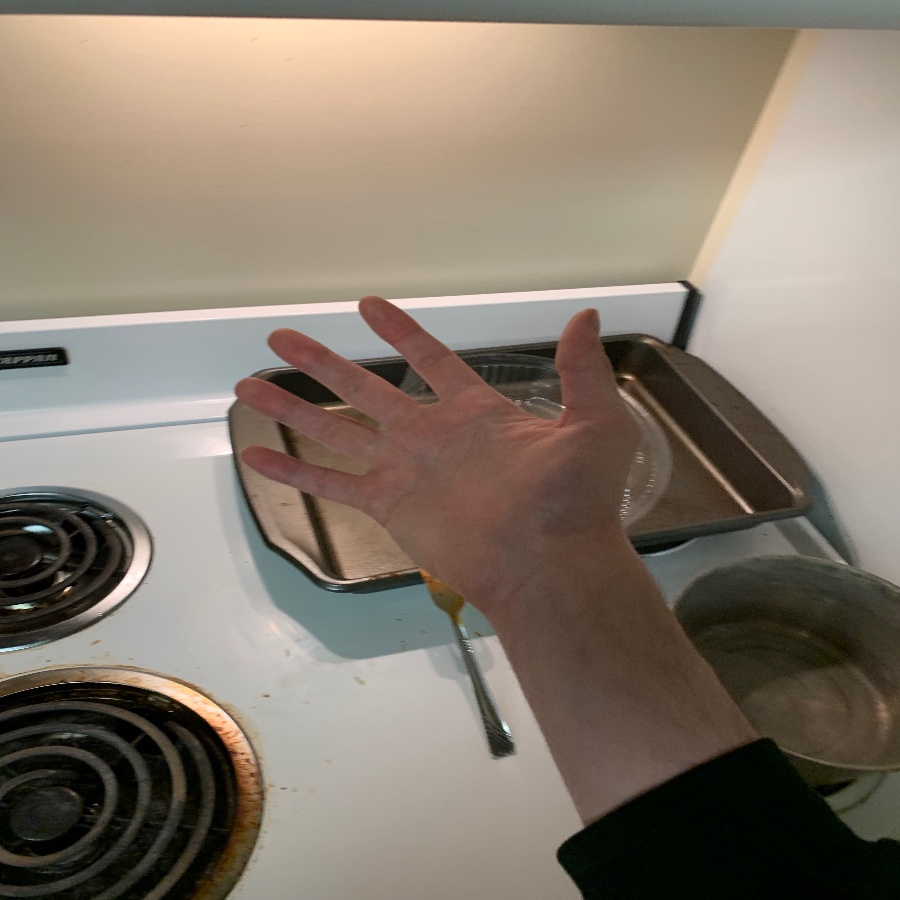tip: (554, 307, 606, 370), (231, 373, 290, 413), (352, 293, 414, 331), (262, 328, 322, 365), (231, 447, 292, 479)
